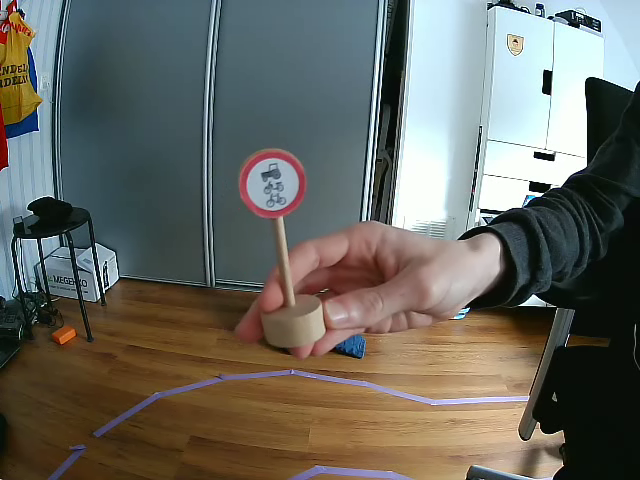fietspad: (241, 150, 306, 220)
